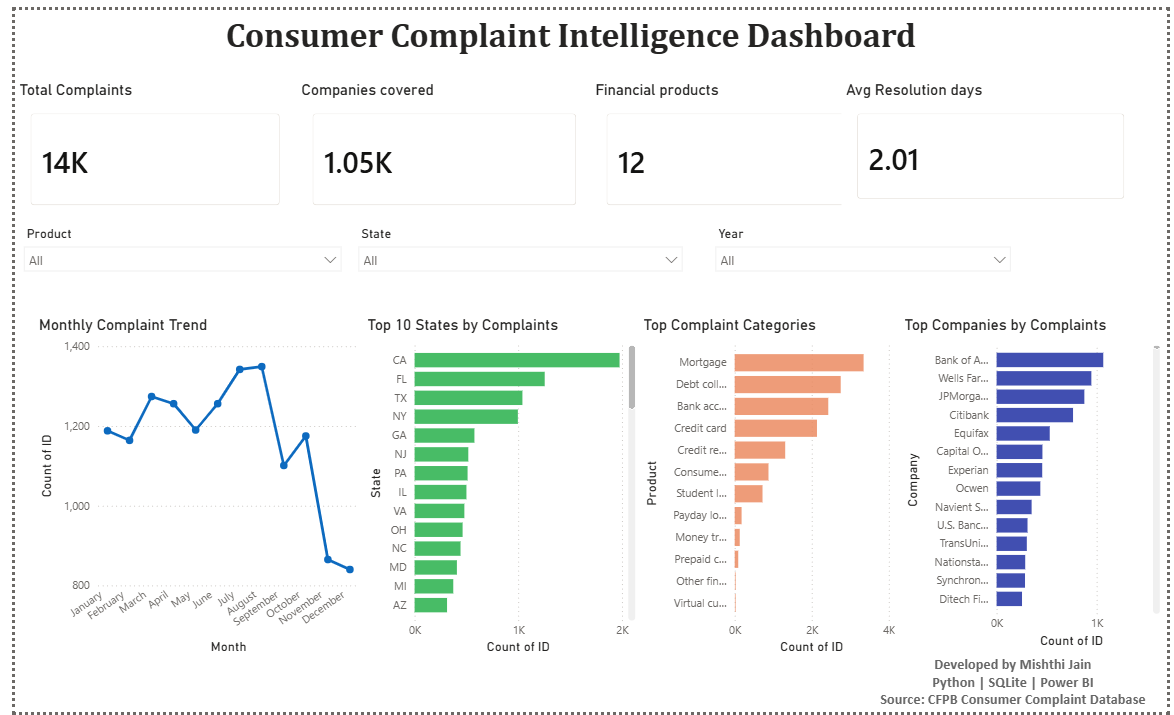

The dashboard page shown, as its layout file describes it:
{"tool":"powerbi","page":{"name":"Page 1","canvas":[1280,780],"ordinal":0},"visuals":[{"type":"cardVisual","title":"Total Complaints","fields":{"Data":["CountNonNull(cleaned_complaints. ID)"]},"box":[0,78.7,311.9,156],"z":0},{"type":"cardVisual","title":"Companies covered","fields":{"Data":["Count(cleaned_complaints.Company)"]},"box":[313.4,78.7,327.1,156],"z":1000},{"type":"cardVisual","title":"Financial products","fields":{"Data":["Count(cleaned_complaints.Product)"]},"box":[640.5,78.7,299.8,156],"z":2000},{"type":"cardVisual","title":"Avg Resolution days","fields":{"Data":["Avg(cleaned_complaints.Resolution time(in days))"]},"box":[919.1,78.7,331.6,148.4],"z":3000},{"type":"lineChart","title":"Monthly Complaint Trend","fields":{"Category":["cleaned_complaints.Date received.Variation.Date Hierarchy.Month"],"Y":["CountNonNull(cleaned_complaints. ID)"]},"box":[21.2,339.2,364.9,380.1],"z":4000},{"type":"clusteredBarChart","title":"Top Complaint Categories","fields":{"Y":["CountNonNull(cleaned_complaints. ID)"],"Category":["cleaned_complaints.Product"]},"box":[693.5,339.2,289.2,380.1],"z":5000},{"type":"clusteredBarChart","title":"Top 10 States by Complaints","fields":{"Y":["CountNonNull(cleaned_complaints. ID)"],"Category":["cleaned_complaints.State"]},"box":[386.1,339.2,307.4,380.1],"z":6000},{"type":"clusteredBarChart","title":"Top Companies by Complaints","fields":{"Y":["CountNonNull(cleaned_complaints. ID)"],"Category":["cleaned_complaints.Company"]},"box":[982.7,339.2,293.8,372.5],"z":7000},{"type":"slicer","fields":{"Values":["cleaned_complaints.Date resolved.Variation.Date Hierarchy.Year"]},"box":[767.7,234.7,348.3,81.8],"z":8000},{"type":"slicer","fields":{"Values":["cleaned_complaints.State"]},"box":[372.5,234.7,380.1,84.8],"z":9000},{"type":"slicer","fields":{"Values":["cleaned_complaints.Product"]},"box":[0,234.7,372.5,84.8],"z":10000},{"type":"textbox","box":[87.8,0,1058.4,57.5],"z":10001},{"type":"textbox","box":[941.4,711.2,334.3,69.4],"z":10002}]}

Visuals, with their boxes in screenshot pixels (x1, y1, x2, y2), scaled from the page's 1280x780 canvas onto the 1174x715 screenshot:
"Total Complaints" cardVisual: 0 72 286 215
"Companies covered" cardVisual: 287 72 587 215
"Financial products" cardVisual: 587 72 862 215
"Avg Resolution days" cardVisual: 843 72 1147 208
"Monthly Complaint Trend" lineChart: 19 311 354 659
"Top Complaint Categories" clusteredBarChart: 636 311 901 659
"Top 10 States by Complaints" clusteredBarChart: 354 311 636 659
"Top Companies by Complaints" clusteredBarChart: 901 311 1171 652
slicer - cleaned_complaints.Date resolved.Variation.Date Hierarchy.Year: 704 215 1024 290
slicer - cleaned_complaints.State: 342 215 690 293
slicer - cleaned_complaints.Product: 0 215 342 293
textbox: 81 0 1051 53
textbox: 863 652 1170 714
